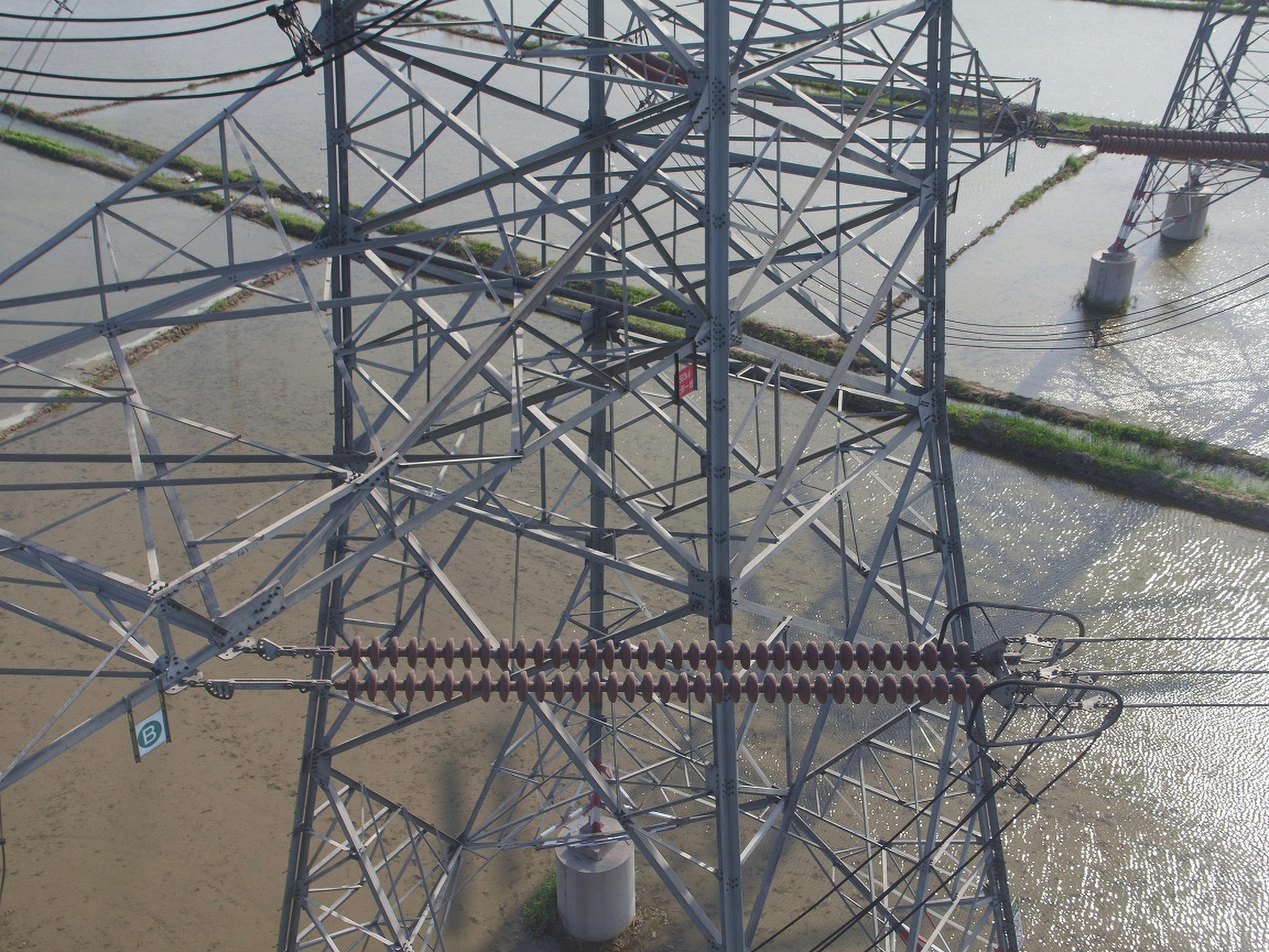insulator: (344, 633, 991, 708), (1086, 122, 1269, 164), (621, 48, 692, 88)
